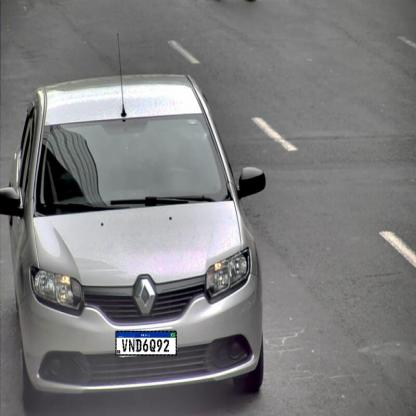PlacaM: (115, 330, 177, 355)
